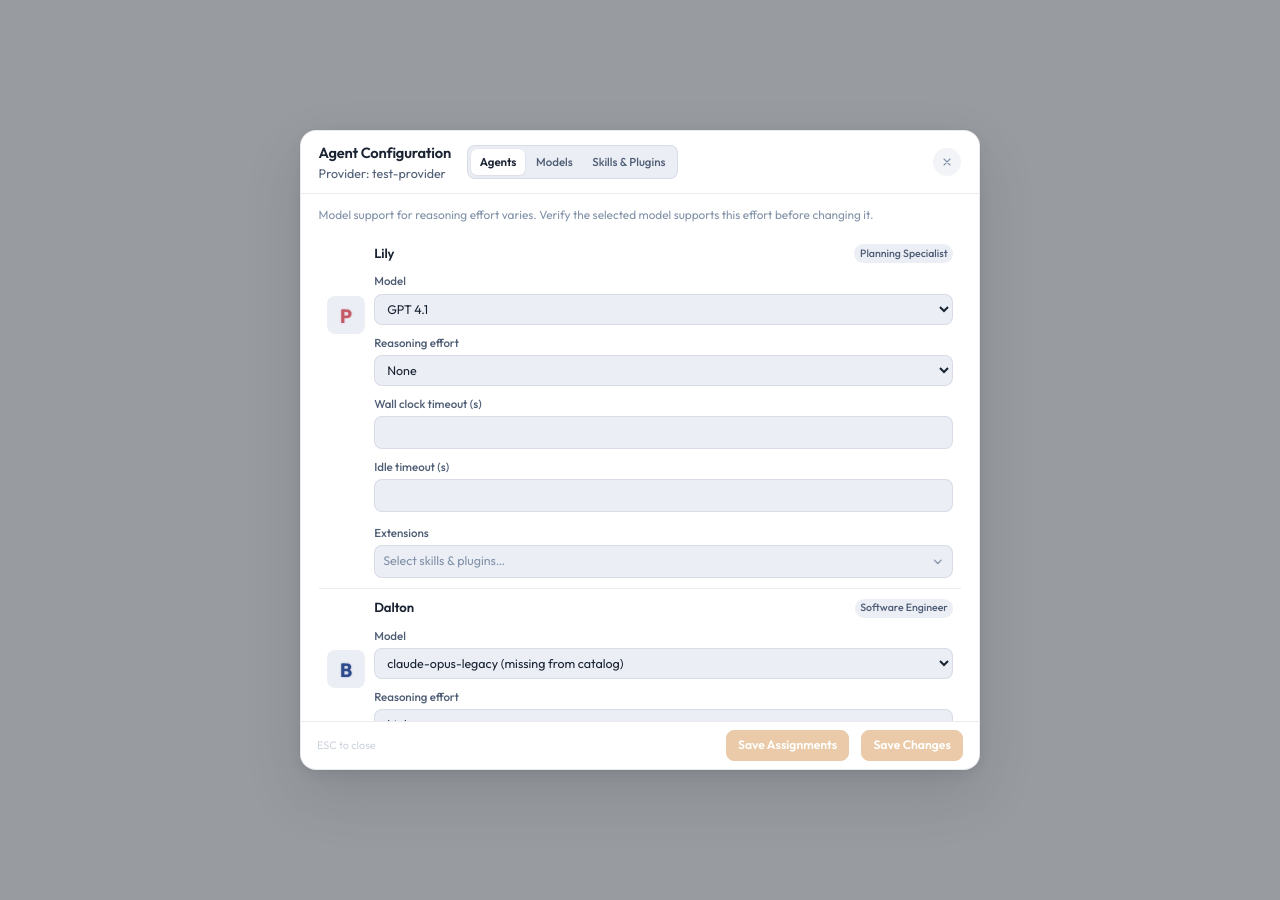
AgentConfigModal › agents tab multi-select shows Skill/Plugin kind badge alongside entry name
The image size is (1280, 900).
What coordinates should you click on to do the following:
click the button with aria-label "Select skills and plugins for Lily"
I would click on:
 (444, 561)
Its box is [374,545,953,578].
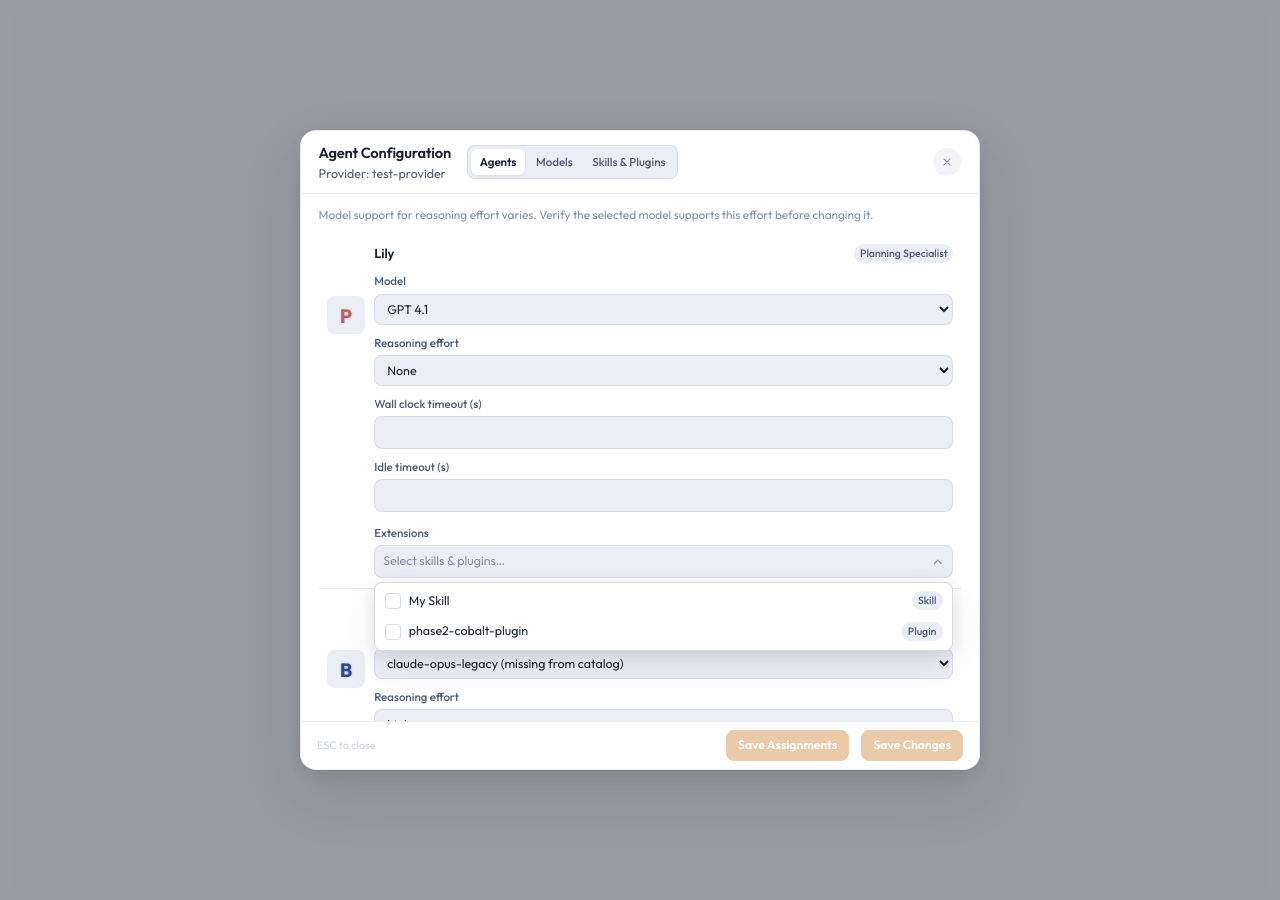
Now the option with aria-label "Assign My Skill (Skill) to" is shown, box [378,586,949,616]
Now the option with aria-label "Assign phase2-cobalt-plugin (Plugin) to" is shown, box [378,617,949,646]
